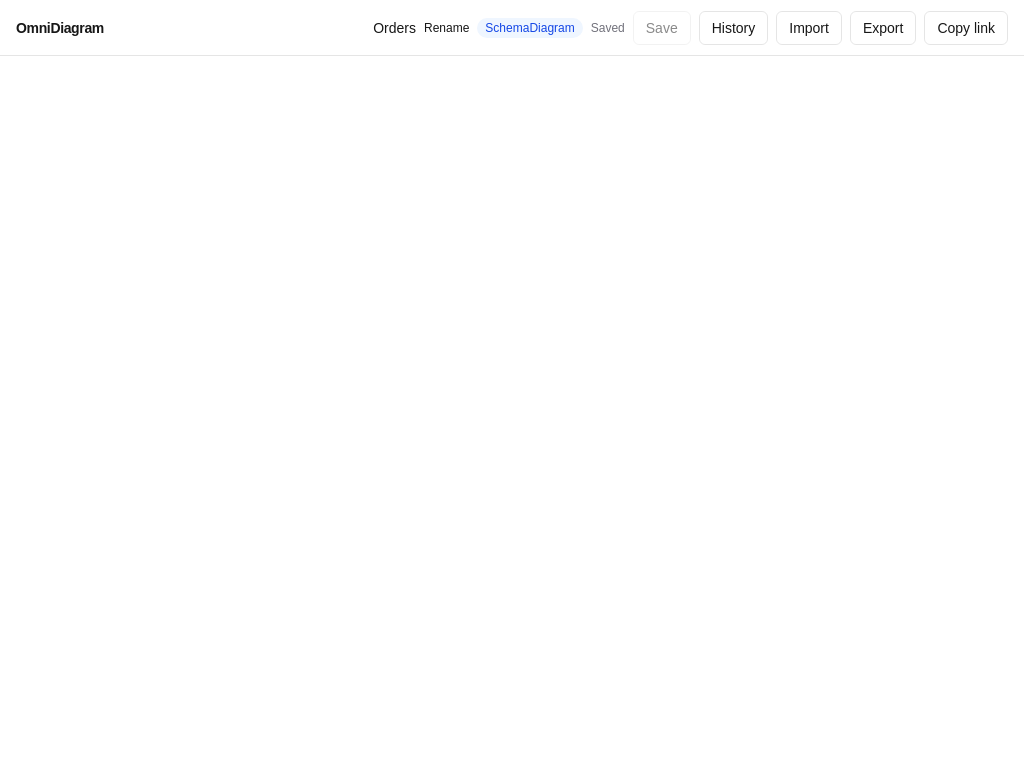
EditorHeader › opens the import dialog from the Import button
This screenshot has width=1024, height=768.
Click the button "Import" at (809, 28), box [776,10,842,44]
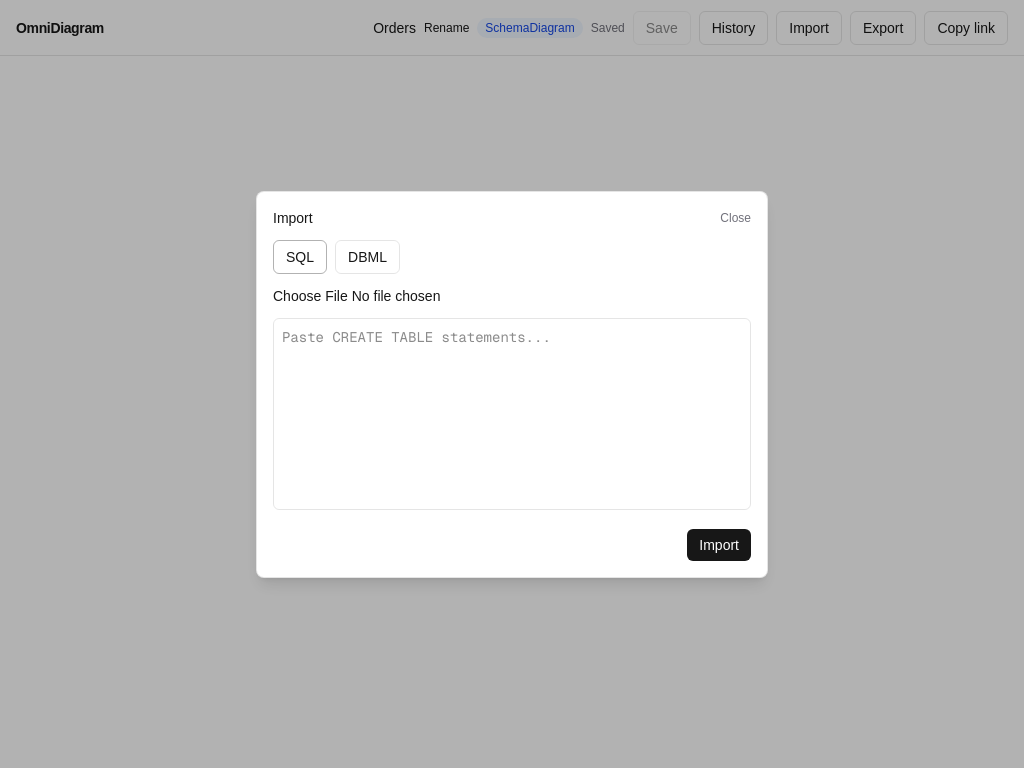
Expected: the text box with placeholder "Paste CREATE TABLE statements..." is shown, [273,318,751,510]
